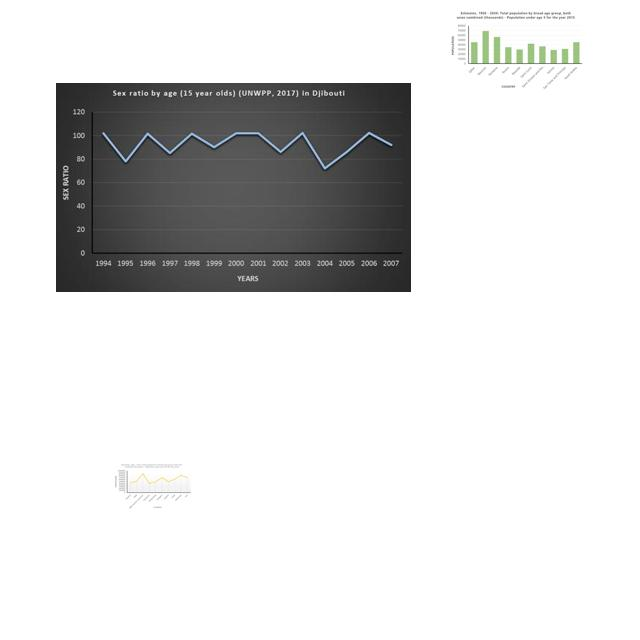Graph: (56, 83, 411, 292), (449, 11, 587, 91), (113, 462, 192, 509)
